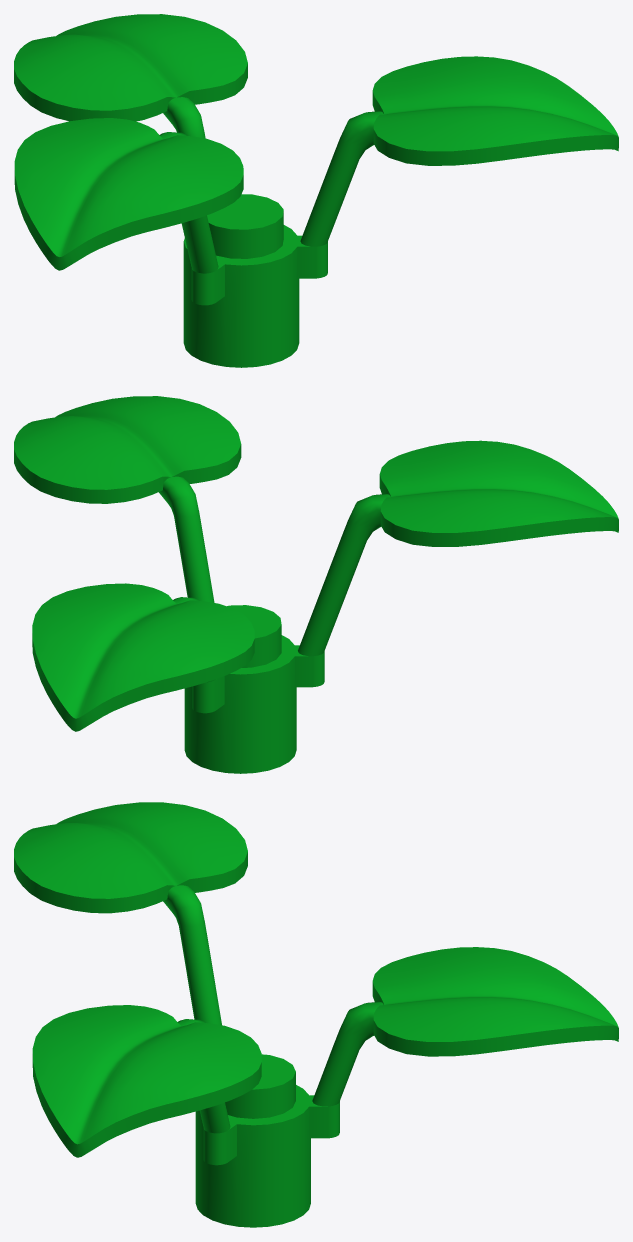
File: grass_3.glb
3 views of the same model, one above another, from view 1: azimuth 30°, elevation 25°; view 2: azimuth 150°, elevation 25°; view 3: azimuth 270°, elevation 25° (orthographic). The views are drawn at different scales.
Parts seen in each view (by area): view 1: grass.001; view 2: grass.001; view 3: grass.001.
Boxes of the visible parts, x1,y1,x2,y2 form: grass.001: (14, 14, 618, 367); grass.001: (14, 396, 618, 773); grass.001: (14, 802, 618, 1227).
Size of the model in its own units: 0.4694 by 0.2143 by 0.4227.
